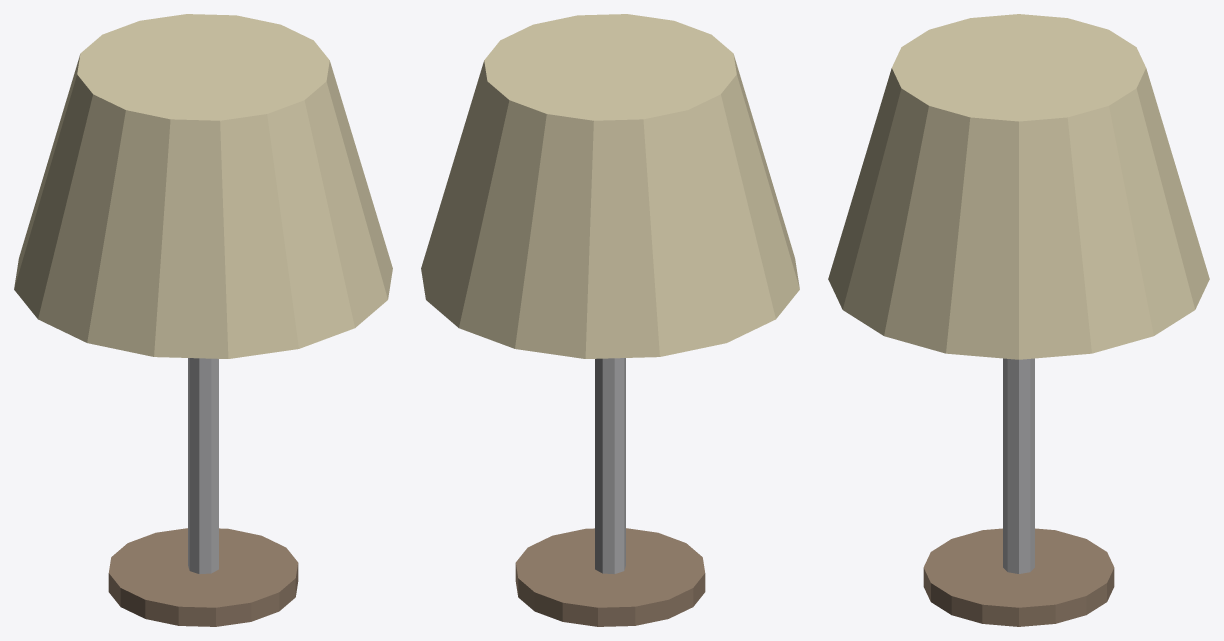
File: bed_ilum_abajur.glb
3 renders of one model, left to right at view 1: azimuth 30°, elevation 25°; view 2: azimuth 150°, elevation 25°; view 3: azimuth 270°, elevation 25°, orthographic.
Visible parts, largest first — view 1: BED_Ilum_Abajur_v01; view 2: BED_Ilum_Abajur_v01; view 3: BED_Ilum_Abajur_v01.
Boxes of the visible parts, x1,y1,x2,y2 form: BED_Ilum_Abajur_v01: [14, 14, 392, 626]; BED_Ilum_Abajur_v01: [421, 14, 799, 626]; BED_Ilum_Abajur_v01: [828, 14, 1209, 626].
Bounding box in the file's own units: 0.36 × 0.54 × 0.36.
